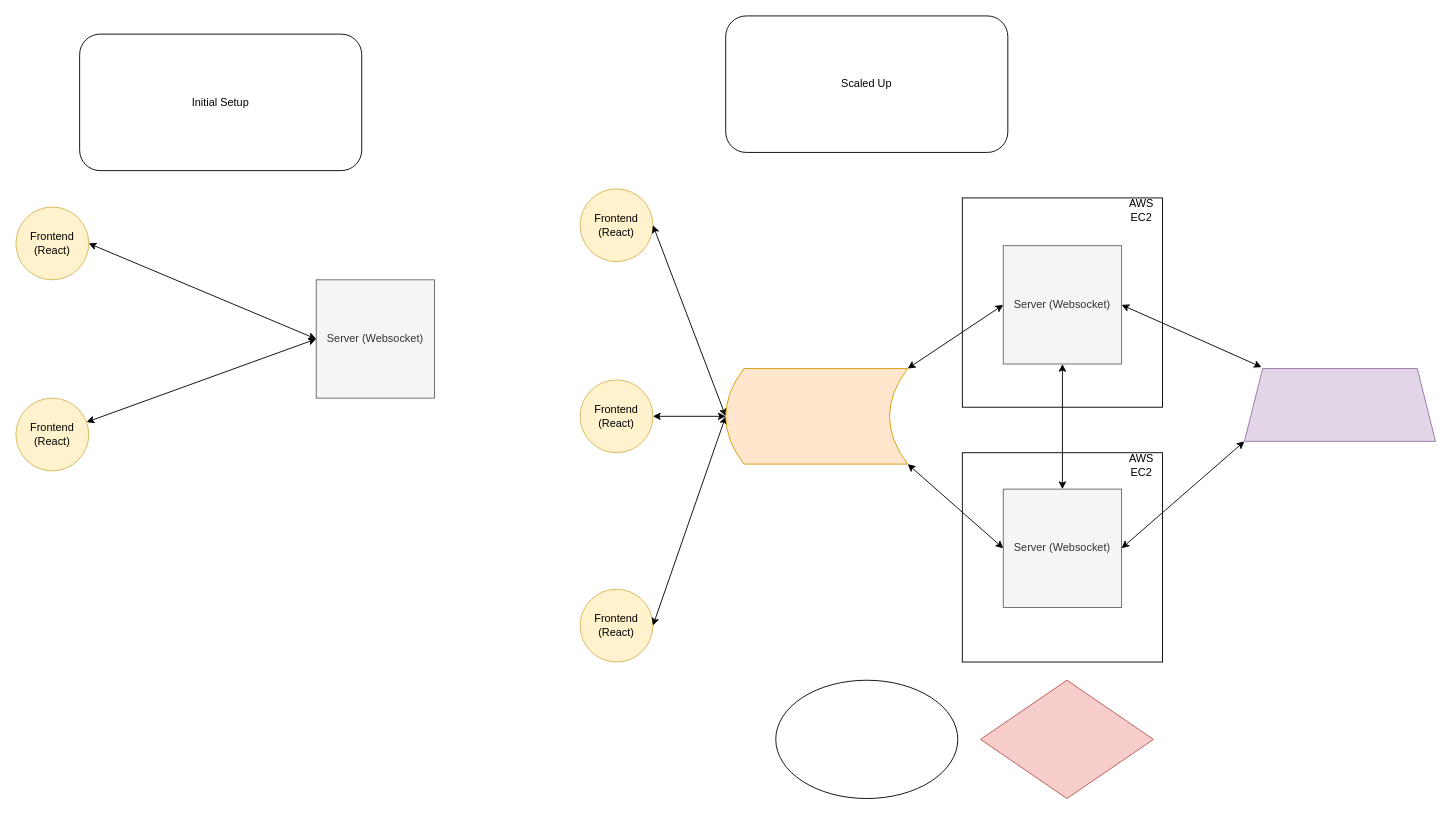
The diagram is 1451 pixels wide and 814 high, and some of its shapes have lost their labels. The centre of each missing label's shape, as x and y in pixels:
Data Store (AWS Elasticache For Redis): [1340,404]
Load Balancer (AWS ELB): [816,416]
Load Balancer And Redis both scale indefinitely (as long as you pay): [866,739]
Only these need to me scaled: [1066,739]
